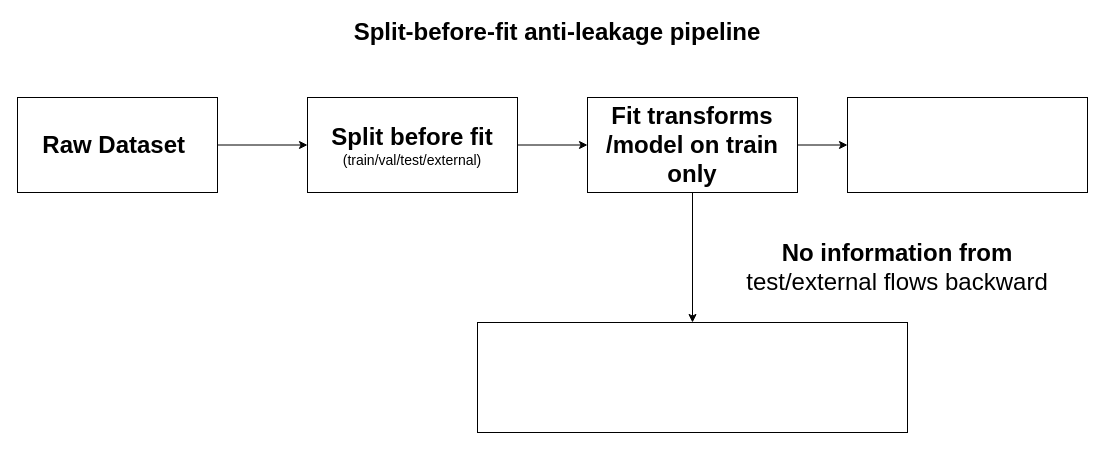
Image size: 1105x450. Some labels were removed from this diagram. The centre of each missing label's shape, as x and y in pixels:
"Leakage audit: overlap/group/time/duplicate checks" belongs at (692,377).
"Single-use test + external evaluation" belongs at (967,144).
